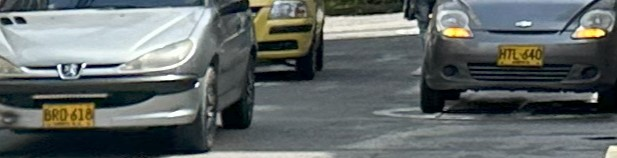number plate: (498, 46, 542, 65)
